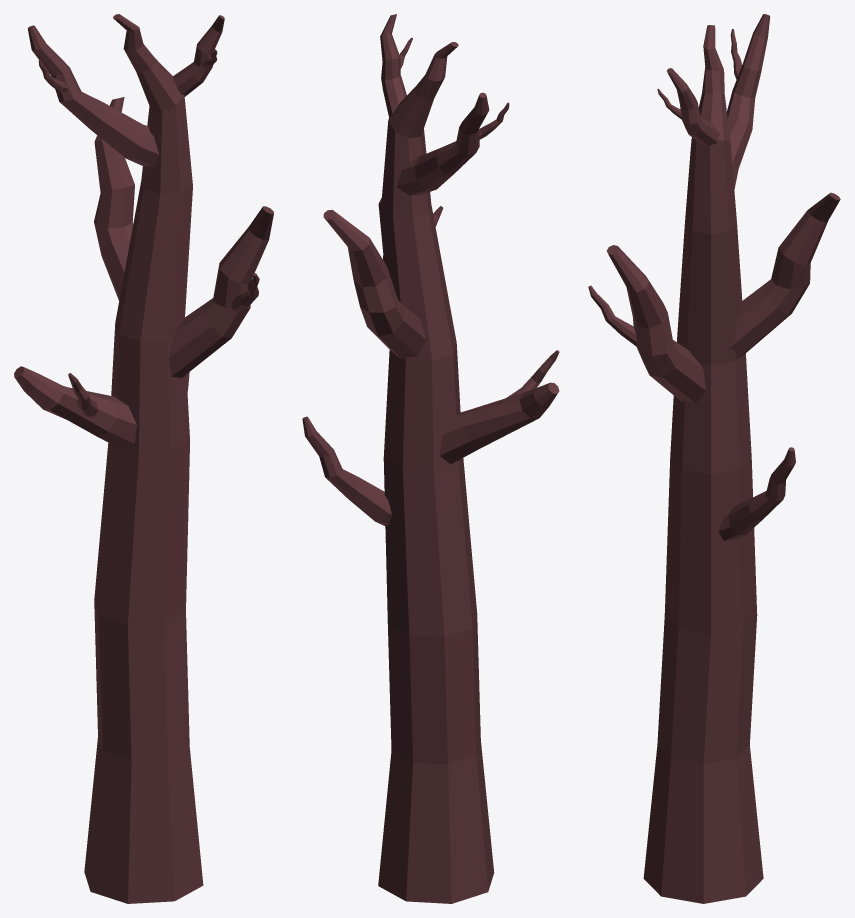
File: NightTree3.fbx
3 renders of one model, left to right at view 1: azimuth 30°, elevation 25°; view 2: azimuth 150°, elevation 25°; view 3: azimuth 270°, elevation 25°, orthographic. The views are drawn at different scales.
Parts seen in each view (by area): view 1: Cylinder, Cylinder.004, Cylinder.002, Cylinder.003, Cylinder.005, Cylinder.008, Cylinder.010; view 2: Cylinder, Cylinder.003, Cylinder.005, Cylinder.002, Cylinder.007, Cylinder.008, Cylinder.010; view 3: Cylinder, Cylinder.003, Cylinder.004, Cylinder.002, Cylinder.007, Cylinder.008, Cylinder.009.
Boxes of the visible parts, left/top/right/bottom form: Cylinder: left=84, top=14, right=203, bottom=903; Cylinder.004: left=168, top=206, right=273, bottom=377; Cylinder.002: left=27, top=25, right=159, bottom=166; Cylinder.003: left=94, top=97, right=134, bottom=300; Cylinder.005: left=14, top=366, right=136, bottom=449; Cylinder.008: left=173, top=15, right=224, bottom=96; Cylinder.010: left=68, top=373, right=97, bottom=417; Cylinder: left=378, top=42, right=494, bottom=903; Cylinder.003: left=323, top=209, right=426, bottom=359; Cylinder.005: left=440, top=382, right=559, bottom=464; Cylinder.002: left=387, top=92, right=489, bottom=195; Cylinder.007: left=302, top=416, right=391, bottom=525; Cylinder.008: left=380, top=14, right=406, bottom=117; Cylinder.010: left=506, top=350, right=559, bottom=397; Cylinder: left=643, top=25, right=763, bottom=903; Cylinder.003: left=729, top=192, right=840, bottom=359; Cylinder.004: left=607, top=245, right=705, bottom=403; Cylinder.002: left=727, top=14, right=770, bottom=189; Cylinder.007: left=718, top=447, right=795, bottom=540; Cylinder.008: left=667, top=68, right=719, bottom=146; Cylinder.009: left=588, top=285, right=637, bottom=346.
Size of the model in its own units: 532 by 2013 by 546.
